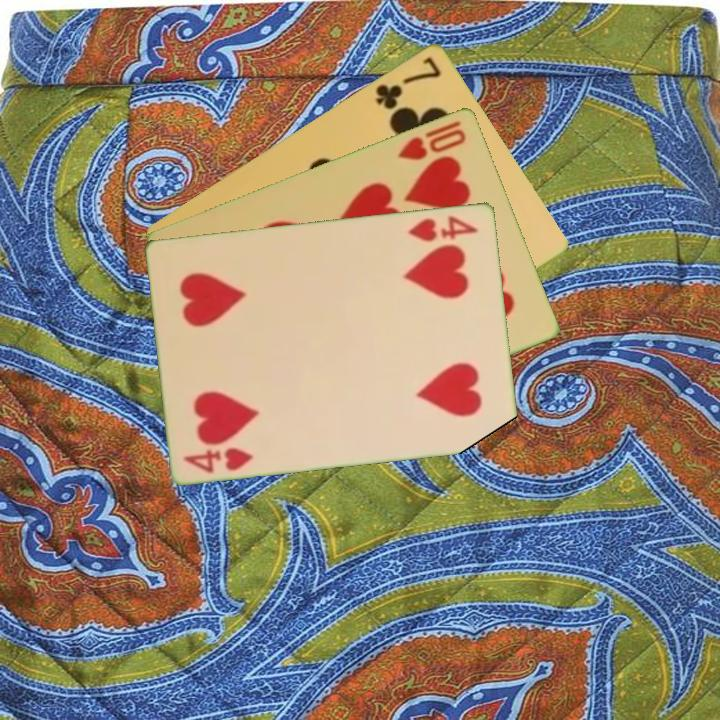10h: (394, 116, 469, 163)
4h: (404, 211, 482, 244), (180, 443, 256, 475)
7c: (371, 52, 444, 112)
